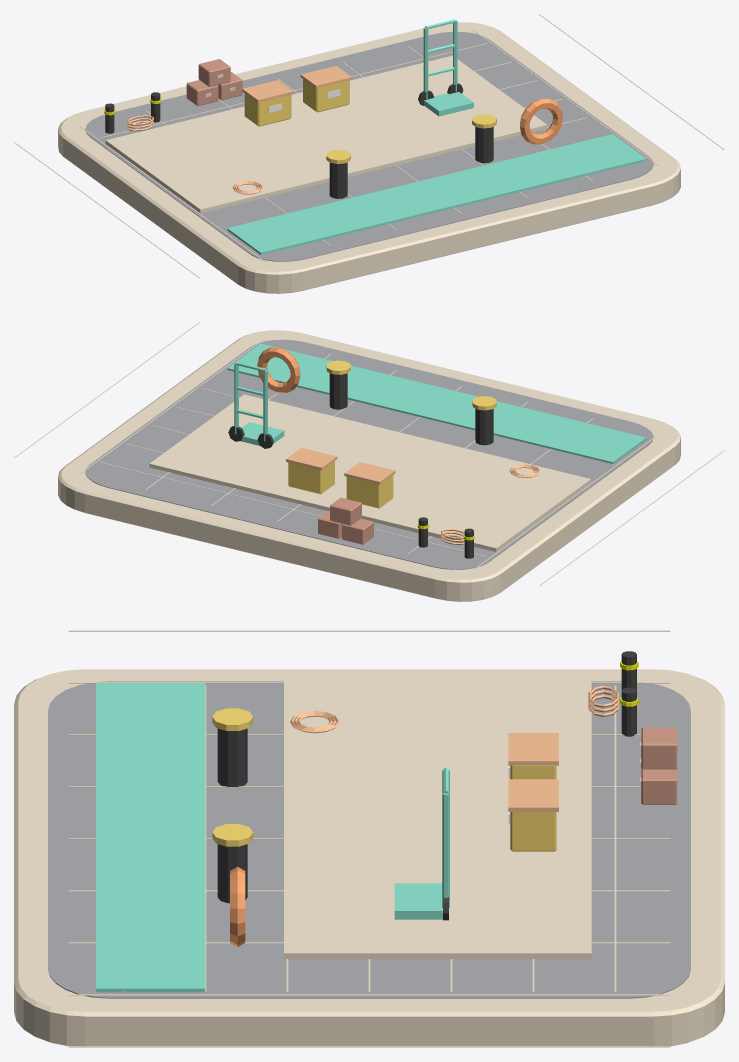
Rendered from room.fbx.
The picture shows the model from 3 angles, top to bottom: view 1: azimuth 30°, elevation 25°; view 2: azimuth 150°, elevation 25°; view 3: azimuth 270°, elevation 25°; orthographic projection. The views are drawn at different scales.
Visible parts, largest first — view 1: Dock paving, COM-01 Rounded Base Direct, COM-02 Floor Surface, Water edge, Life ring, Box, Box.001, Loading plate, Stacked case.002, Lid, Lid.001, Mooring post (+3 smaller); view 2: COM-01 Rounded Base Direct, Dock paving, COM-02 Floor Surface, Water edge, Box.001, Box, Life ring, Stacked case.002, Lid, Lid.001, Mooring post.001, Mooring post (+3 smaller); view 3: Dock paving, COM-02 Floor Surface, COM-01 Rounded Base Direct, Water edge, Box.001, Loading plate, Mooring post, Lid, Lid.001, Stacked case.002, Stacked case.001, Mooring post.001 (+10 smaller).
Part boxes in pixels (left/top/right/bottom): Dock paving: left=105, top=55, right=547, bottom=213; COM-01 Rounded Base Direct: left=58, top=22, right=680, bottom=293; COM-02 Floor Surface: left=85, top=31, right=653, bottom=261; Water edge: left=227, top=134, right=646, bottom=254; Life ring: left=520, top=99, right=562, bottom=144; Box: left=244, top=93, right=291, bottom=126; Box.001: left=303, top=79, right=349, bottom=112; Loading plate: left=424, top=92, right=473, bottom=116; Stacked case.002: left=198, top=59, right=230, bottom=87; Lid: left=242, top=80, right=293, bottom=102; Lid.001: left=300, top=66, right=351, bottom=88; Mooring post: left=329, top=162, right=347, bottom=198; COM-01 Rounded Base Direct: left=58, top=330, right=680, bottom=601; Dock paving: left=149, top=394, right=591, bottom=551; COM-02 Floor Surface: left=85, top=339, right=653, bottom=569; Water edge: left=227, top=343, right=646, bottom=463; Box.001: left=288, top=461, right=334, bottom=494; Box: left=346, top=475, right=393, bottom=508; Life ring: left=257, top=347, right=300, bottom=392; Stacked case.002: left=330, top=497, right=361, bottom=525; Lid: left=344, top=462, right=395, bottom=484; Lid.001: left=286, top=448, right=337, bottom=470; Mooring post.001: left=329, top=373, right=347, bottom=409; Mooring post: left=475, top=408, right=493, bottom=445; Dock paving: left=284, top=678, right=591, bottom=959; COM-02 Floor Surface: left=48, top=681, right=690, bottom=998; COM-01 Rounded Base Direct: left=14, top=669, right=724, bottom=1046; Water edge: left=96, top=683, right=205, bottom=992; Box.001: left=510, top=812, right=556, bottom=851; Loading plate: left=394, top=883, right=442, bottom=919; Mooring post: left=217, top=728, right=247, bottom=786; Lid: left=508, top=733, right=558, bottom=765; Lid.001: left=508, top=779, right=558, bottom=811; Stacked case.002: left=641, top=727, right=677, bottom=769; Stacked case.001: left=641, top=768, right=677, bottom=804; Mooring post.001: left=217, top=844, right=247, bottom=903.
Bounding box in the file's own units: 721 × 139 × 520.
